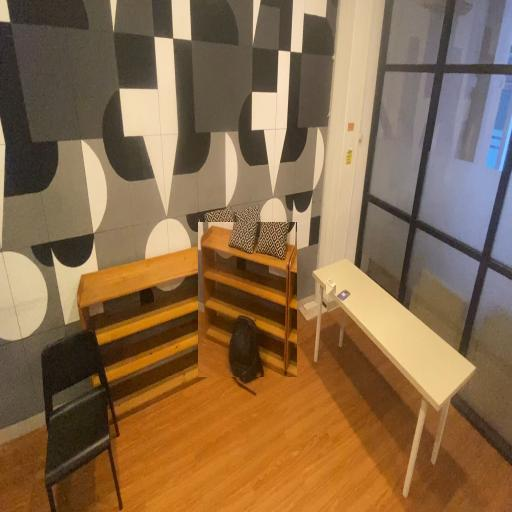bantal: (203, 202, 240, 263), (234, 200, 268, 256)
hp: (337, 288, 351, 302)
kursi: (36, 323, 124, 512)
lemari: (74, 238, 212, 432), (198, 222, 297, 377)
meja: (312, 245, 481, 508)
remote AC: (326, 272, 336, 294)
tas ransel: (230, 312, 268, 386)
